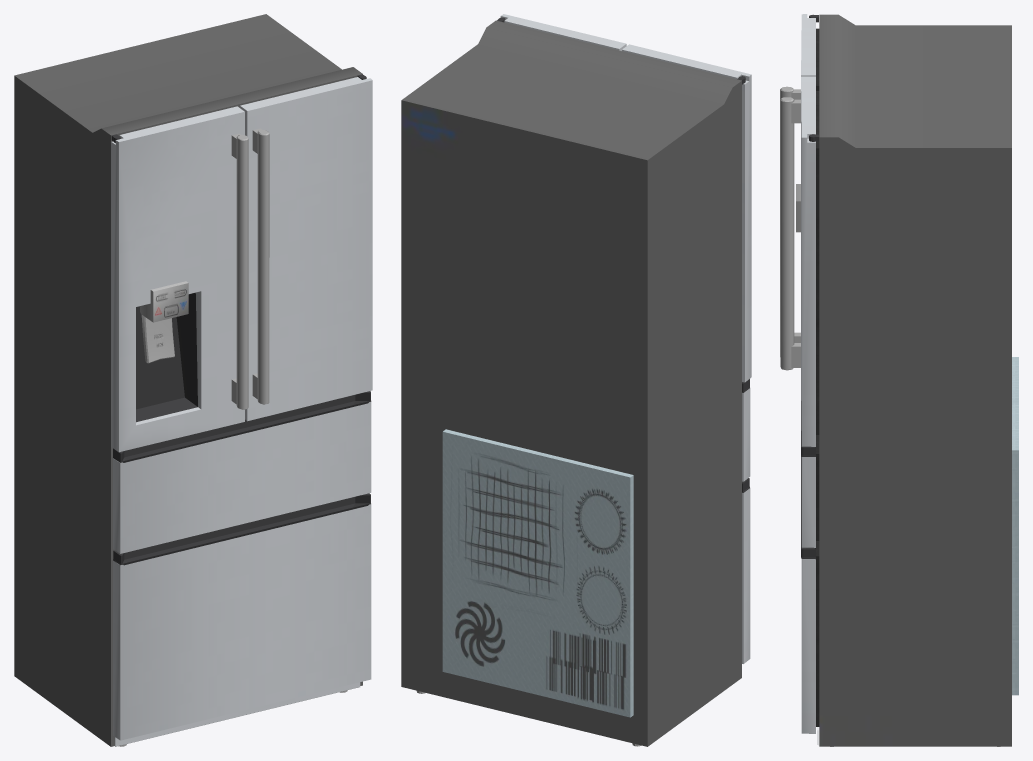
The model's file is frigo_30.glb.
3 views of the same model, side by side, from view 1: azimuth 30°, elevation 25°; view 2: azimuth 150°, elevation 25°; view 3: azimuth 270°, elevation 25° (orthographic). The views are drawn at different scales.
Parts seen in each view (by area): view 1: pCube17_Fridge_Stainless_0, pCube17_Fridge_Body_0, pCube17_Fridge_Plastic_0, pCube17_Fridge_Brushed_0; view 2: pCube17_Fridge_Body_0, pCube17_Fridge_Radiator_0, pCube17_Fridge_Stainless_0; view 3: pCube17_Fridge_Body_0, pCube17_Fridge_Stainless_0, pCube17_Fridge_Brushed_0, pCube17_Fridge_Gasket_0, pCube17_Fridge_Radiator_0, pCube17_Fridge_Plastic_0.
Part boxes in pixels (x1,y1,x2,y2): pCube17_Fridge_Stainless_0: (111, 77, 372, 746); pCube17_Fridge_Body_0: (14, 14, 362, 746); pCube17_Fridge_Plastic_0: (111, 74, 371, 565); pCube17_Fridge_Brushed_0: (118, 128, 347, 746); pCube17_Fridge_Body_0: (401, 20, 741, 746); pCube17_Fridge_Radiator_0: (442, 429, 633, 717); pCube17_Fridge_Stainless_0: (500, 14, 751, 663); pCube17_Fridge_Body_0: (819, 14, 1011, 746); pCube17_Fridge_Stainless_0: (801, 14, 818, 744); pCube17_Fridge_Brushed_0: (780, 86, 1000, 746); pCube17_Fridge_Gasket_0: (816, 28, 819, 726); pCube17_Fridge_Radiator_0: (1012, 357, 1018, 695); pCube17_Fridge_Plastic_0: (801, 14, 818, 559).
Size of the model in its own units: 0.7619 by 1.76 by 0.6205.
Materials: 6 (5 with a texture image).
